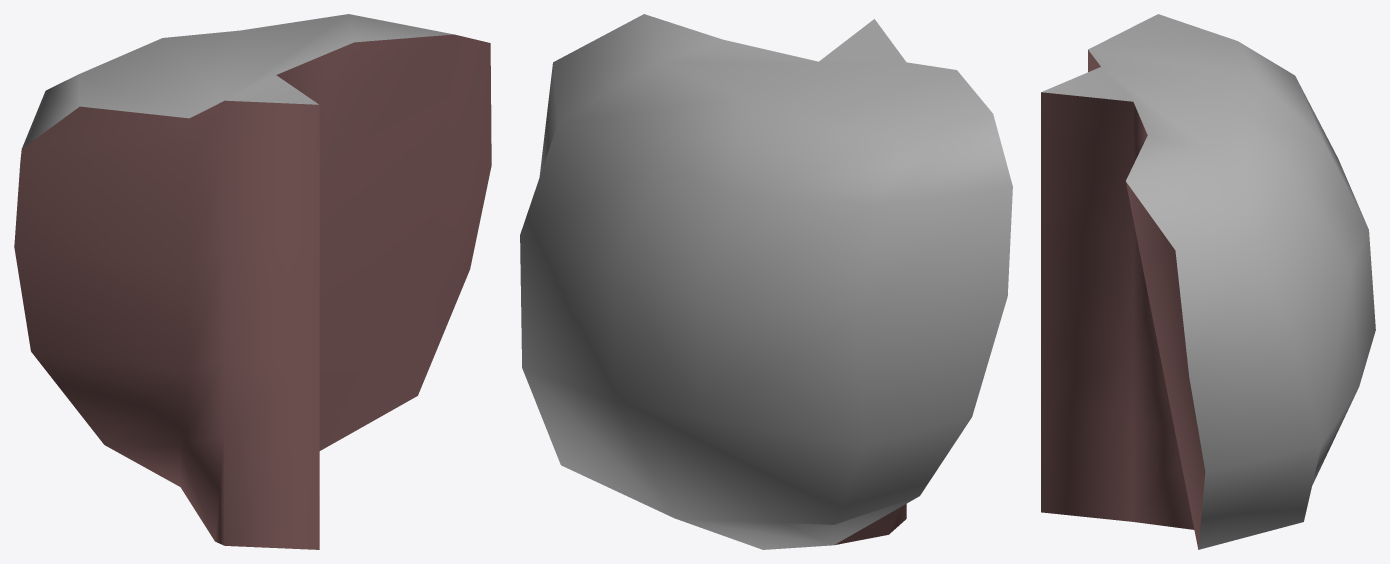
3 renders of one model, left to right at view 1: azimuth 30°, elevation 25°; view 2: azimuth 150°, elevation 25°; view 3: azimuth 270°, elevation 25°, orthographic. The views are drawn at different scales.
Visible parts, largest first — view 1: p2_3; view 2: p2_3; view 3: p2_3.
Boxes of the visible parts, x1,y1,x2,y2 form: p2_3: (14,14,491,549); p2_3: (520,14,1012,549); p2_3: (1041,14,1375,549).
Bounding box in the file's own units: 7.17 × 6.68 × 4.7.
